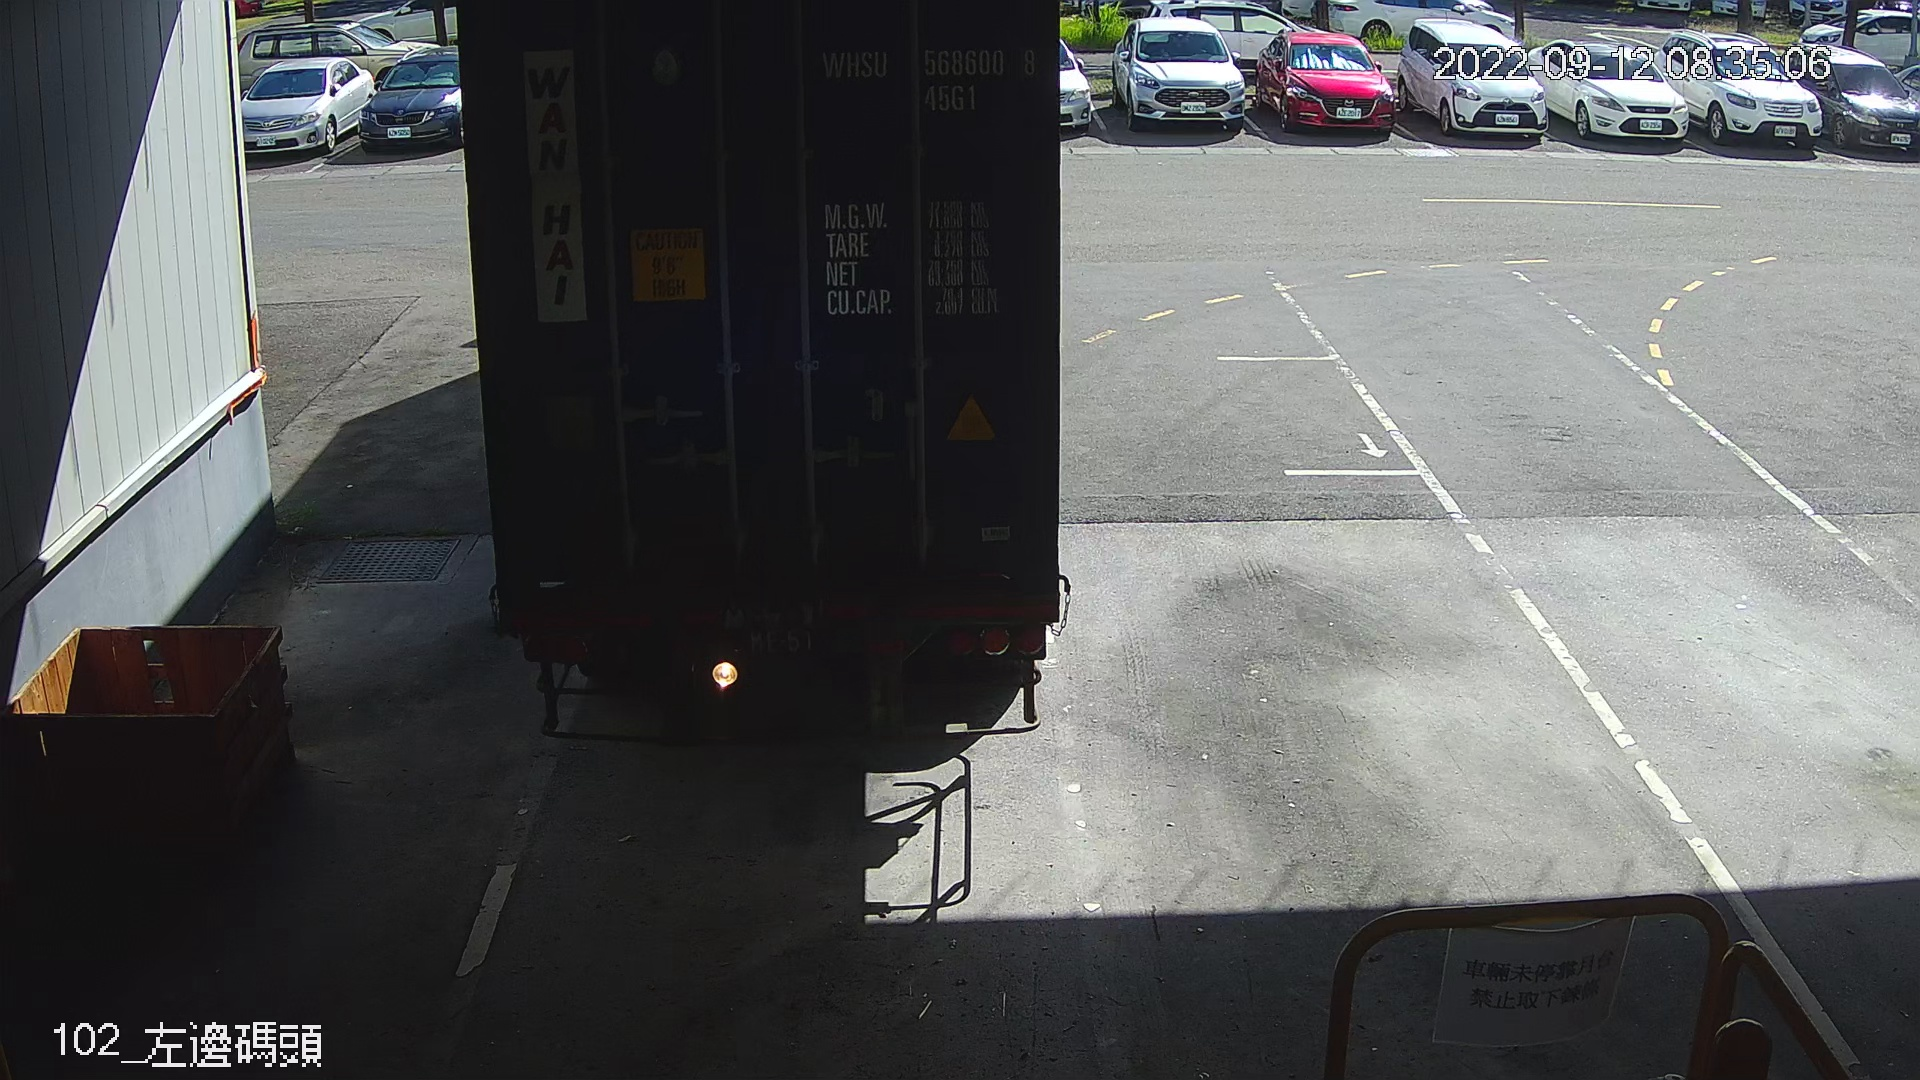container: (814, 33, 1044, 123)
